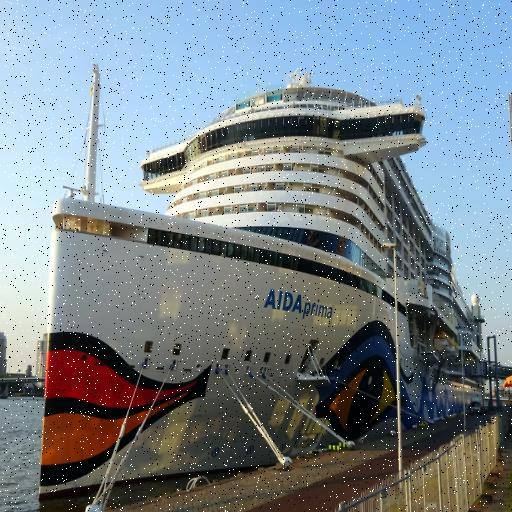cruises: (37, 45, 490, 496)
